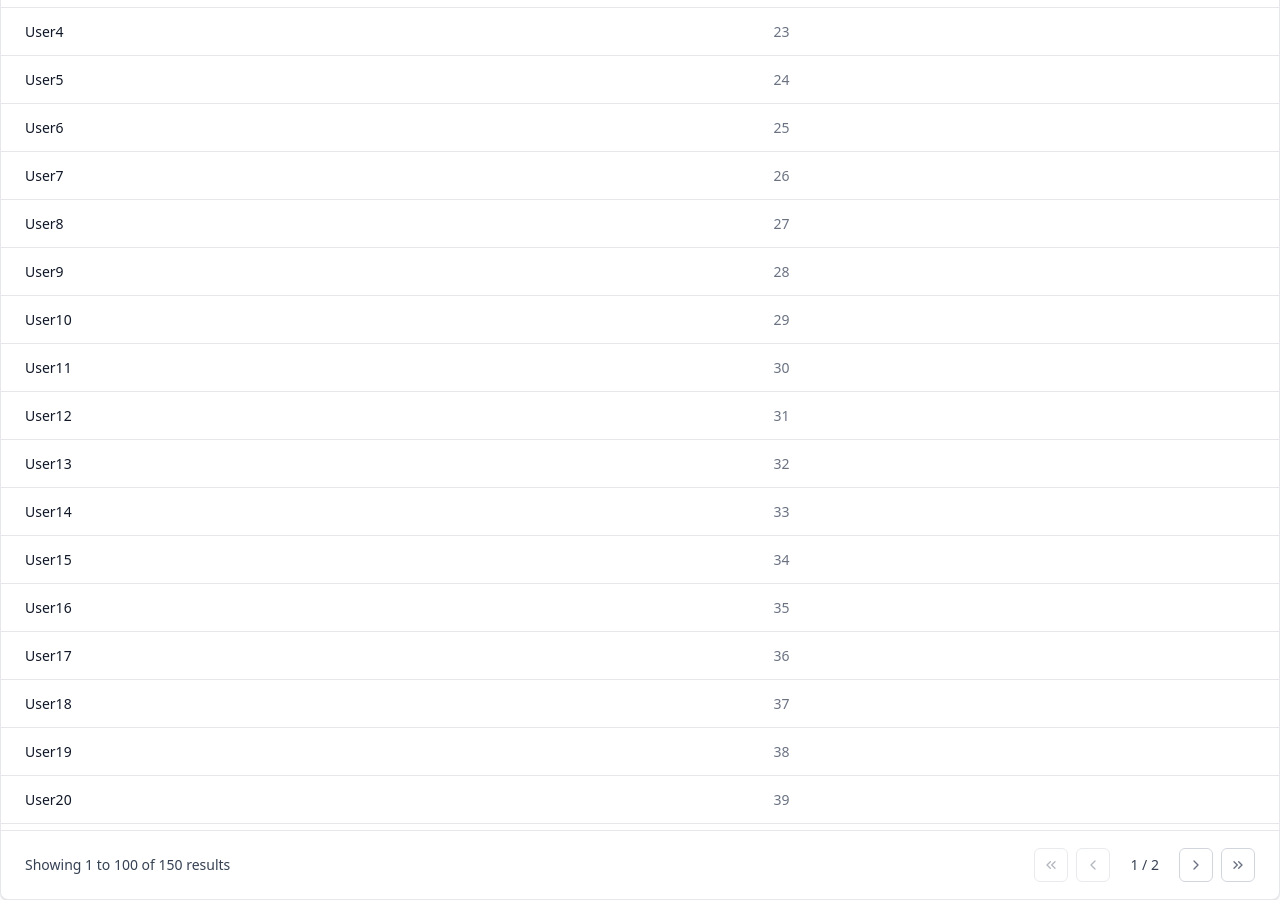
Test: DataTable Component › handles pagination for more than 100 rows
(page scrolled)
Check: the text "Showing 1 to 100 of 150 results" is shown, box [25,855,230,875]
Note: Simulate clicking the "next page" button
Click the 4th button.
click(1238, 865)  # box [1221,848,1255,882]
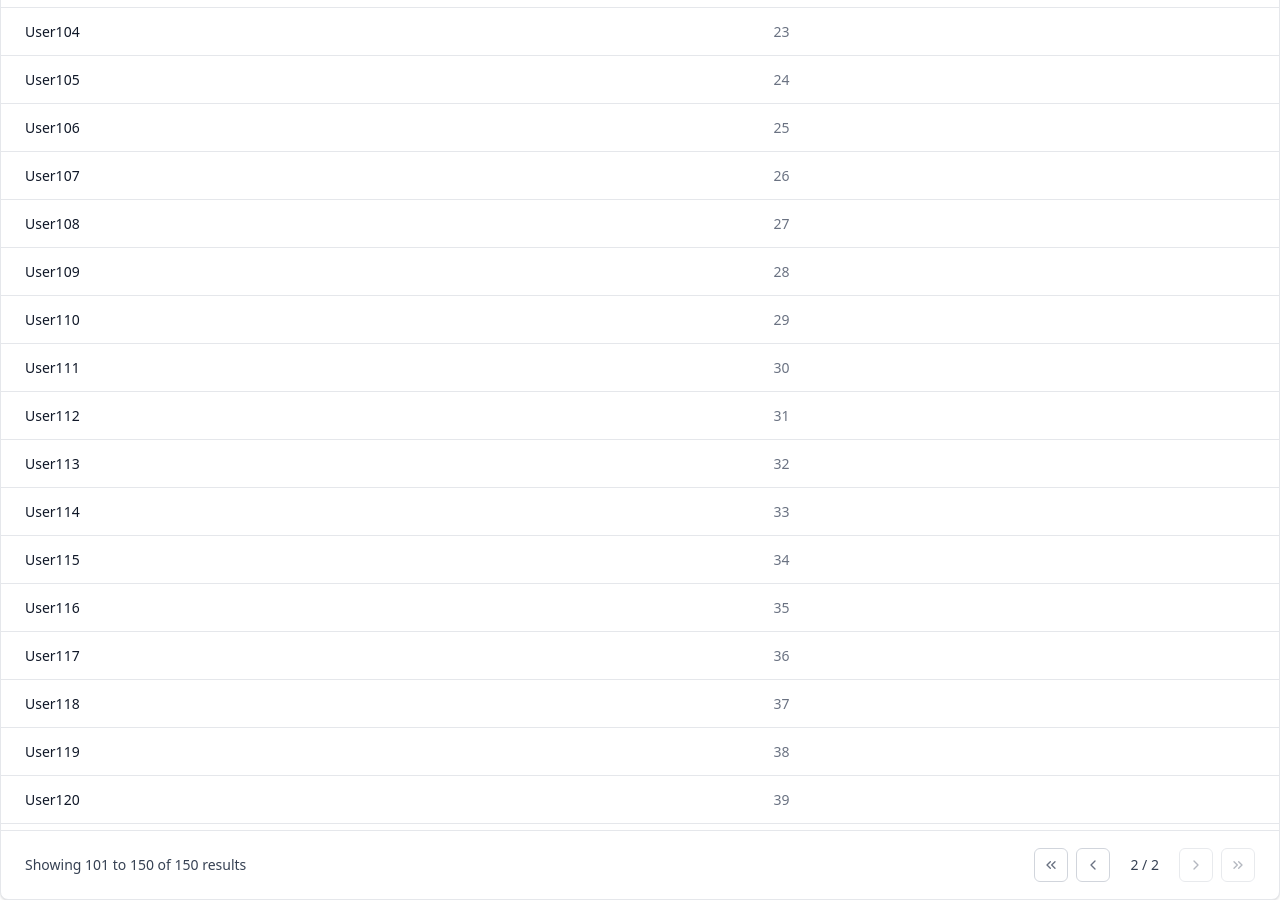
Check: the text "Showing 101 to 150 of 150 results" is shown, box [25,855,246,875]
